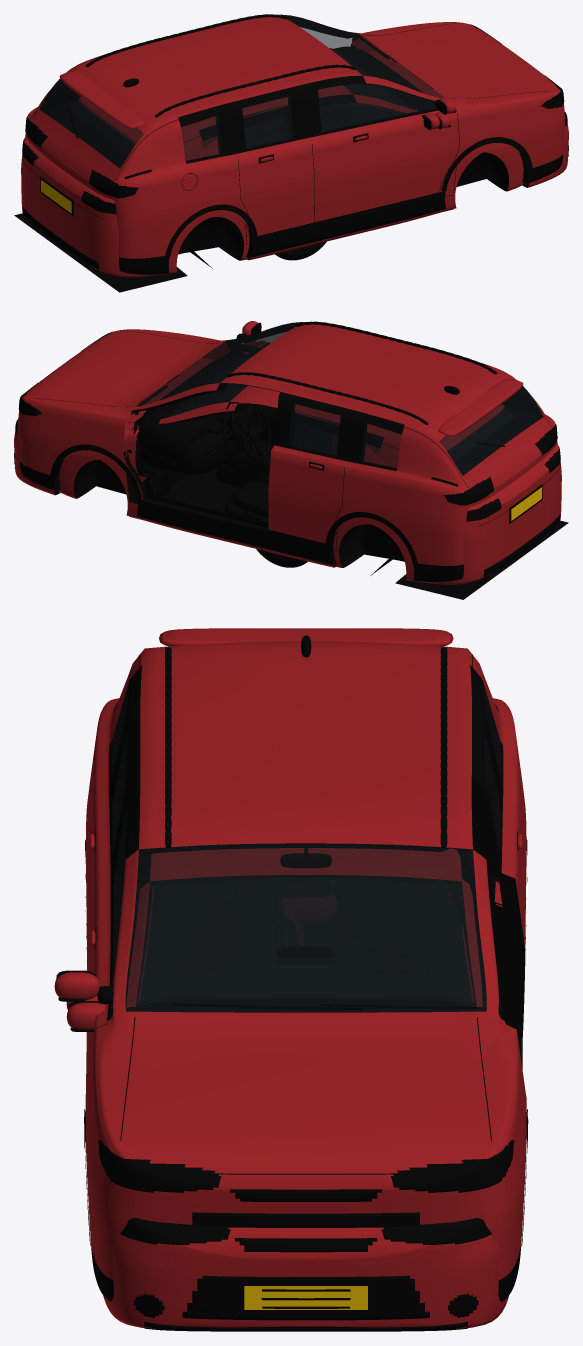
Rendered from cars.glb.
The picture shows the model from 3 angles, top to bottom: view 1: azimuth 30°, elevation 25°; view 2: azimuth 150°, elevation 25°; view 3: azimuth 270°, elevation 25°; orthographic projection. The views are drawn at different scales.
Parts seen in each view (by area): view 1: suv_body, sedan_body, hatch_body, suv_wheel; view 2: suv_body, sedan_body, hatch_body, suv_wheel; view 3: suv_body, sedan_body, hatch_body.
Part boxes in pixels (<box>): suv_body: <box>25,14,565,274</box>; sedan_body: <box>14,48,568,292</box>; hatch_body: <box>70,97,524,283</box>; suv_wheel: <box>275,241,326,260</box>; suv_body: <box>17,321,557,581</box>; sedan_body: <box>14,341,568,599</box>; hatch_body: <box>58,341,512,591</box>; suv_wheel: <box>256,549,307,567</box>; suv_body: <box>54,628,528,1301</box>; sedan_body: <box>66,812,509,1331</box>; hatch_body: <box>66,863,502,1009</box>.
Size of what is drawn, in the model's own units: 4.65 by 2.02 by 1.99.
Materials: 5 (2 with a texture image).
